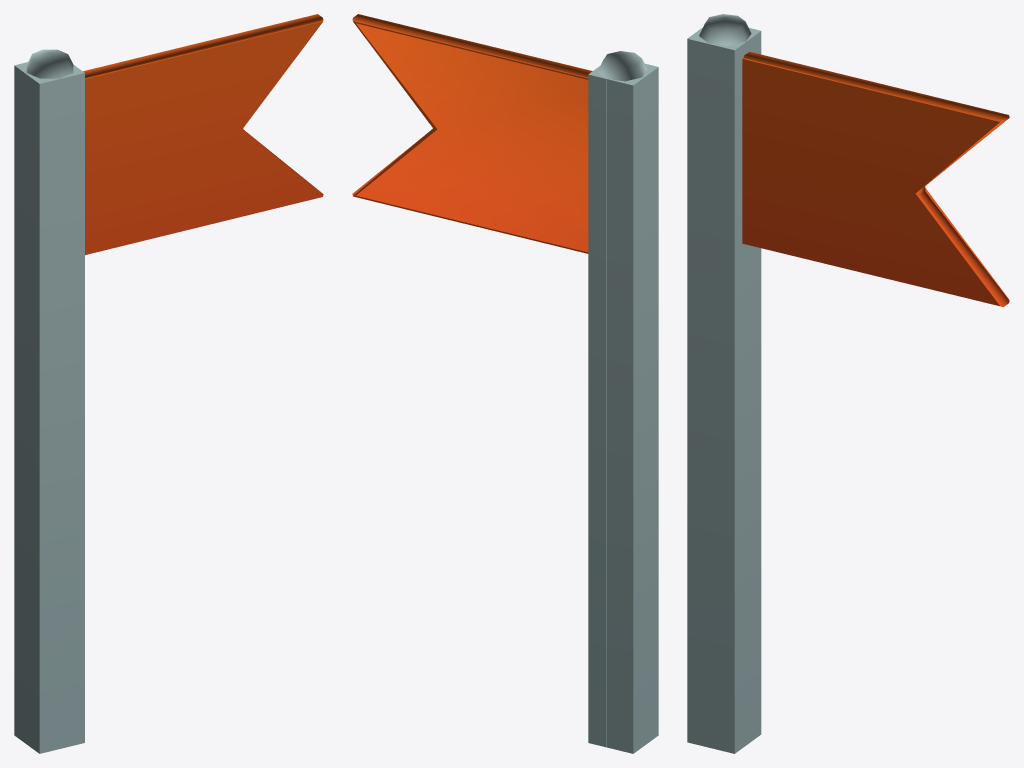
Rendered from checkpoint.fbx.
3 renders of one model, left to right at view 1: azimuth 30°, elevation 25°; view 2: azimuth 150°, elevation 25°; view 3: azimuth 330°, elevation 25°, orthographic. The views are drawn at different scales.
Parts seen in each view (by area): view 1: checkpoint low, checkpoint; view 2: checkpoint low, checkpoint; view 3: checkpoint low, checkpoint.
Boxes of the visible parts, box(x1,y1,x2,y2) form: checkpoint low: box(14, 20, 323, 753); checkpoint: box(26, 14, 323, 195); checkpoint low: box(353, 20, 658, 753); checkpoint: box(352, 14, 647, 747); checkpoint low: box(687, 27, 1008, 753); checkpoint: box(699, 14, 1009, 306).
Bounding box in the file's own units: 89.82 × 201 × 13.5.
Materials: 2 (2 with a texture image).
